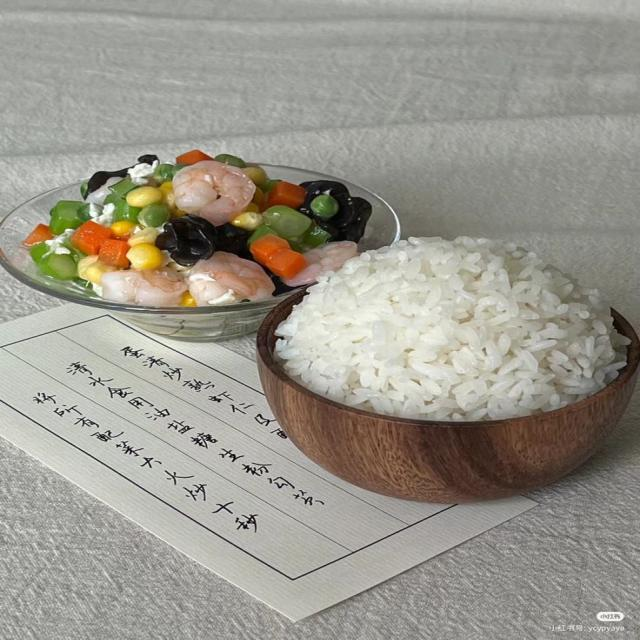rice: (276, 237, 628, 420)
